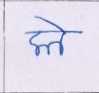o_matra: (53, 19, 67, 55)
